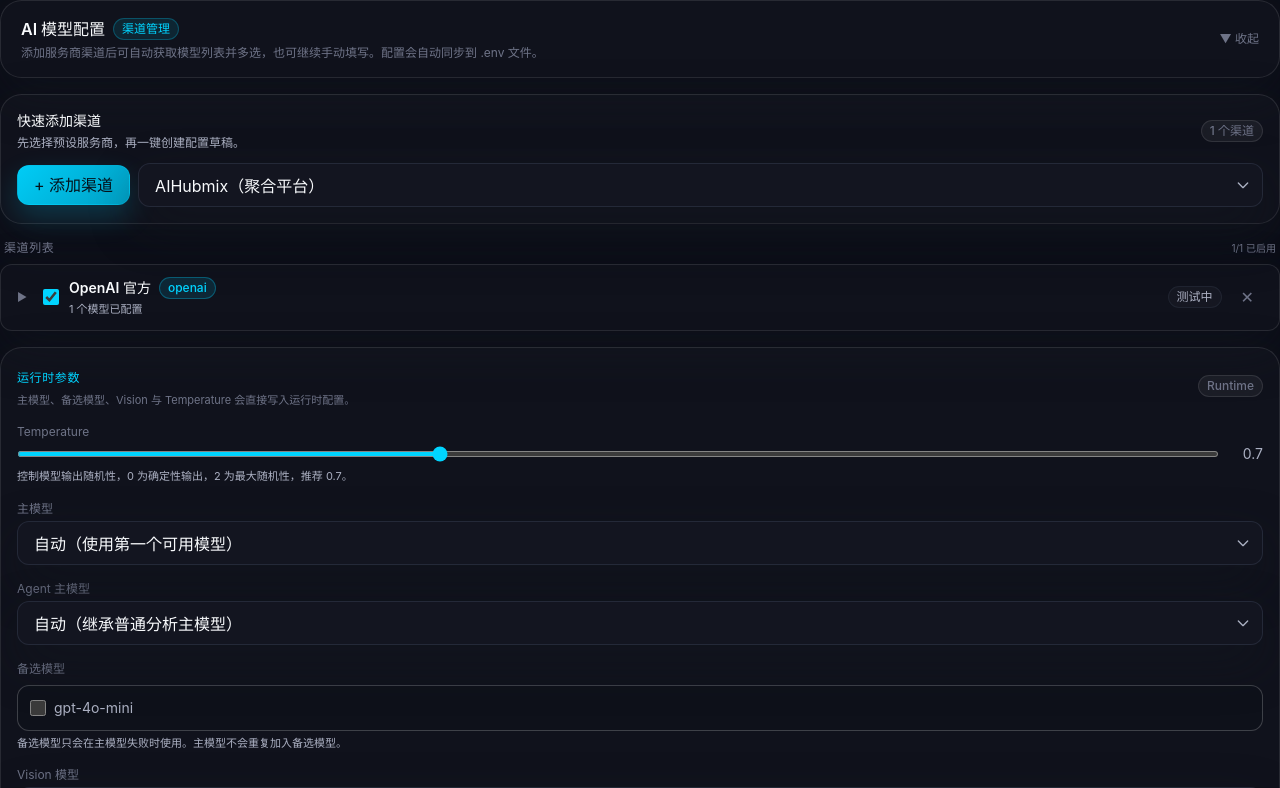
it: LLMChannelEditor › shows focused quota exceeded troubleshooting hints
This screenshot has width=1280, height=788.
Click the button "▶ OpenAI 官方 openai 1 个模型已配置 测试中 ✕" at (110, 288), box [1, 265, 1279, 330]
(page scrolled)
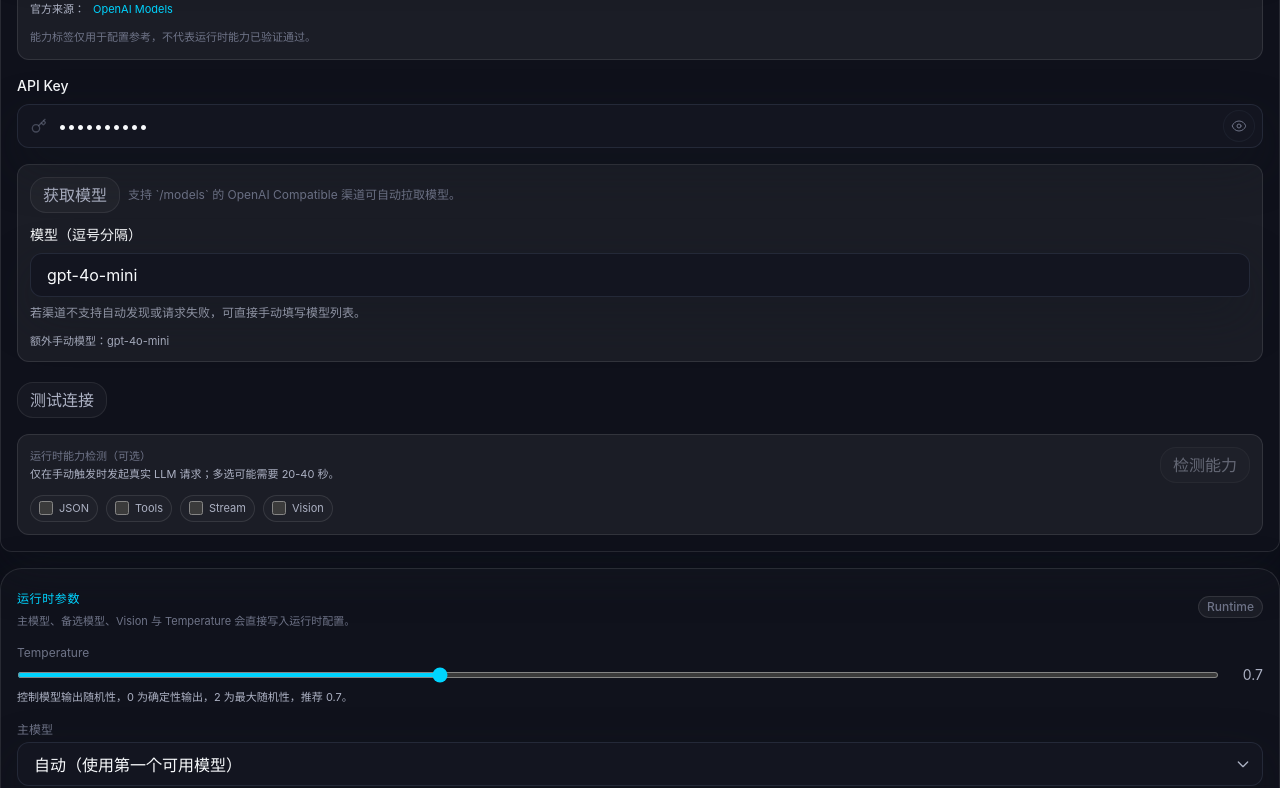
Click the button "测试连接" at (62, 400), box [17, 382, 107, 418]
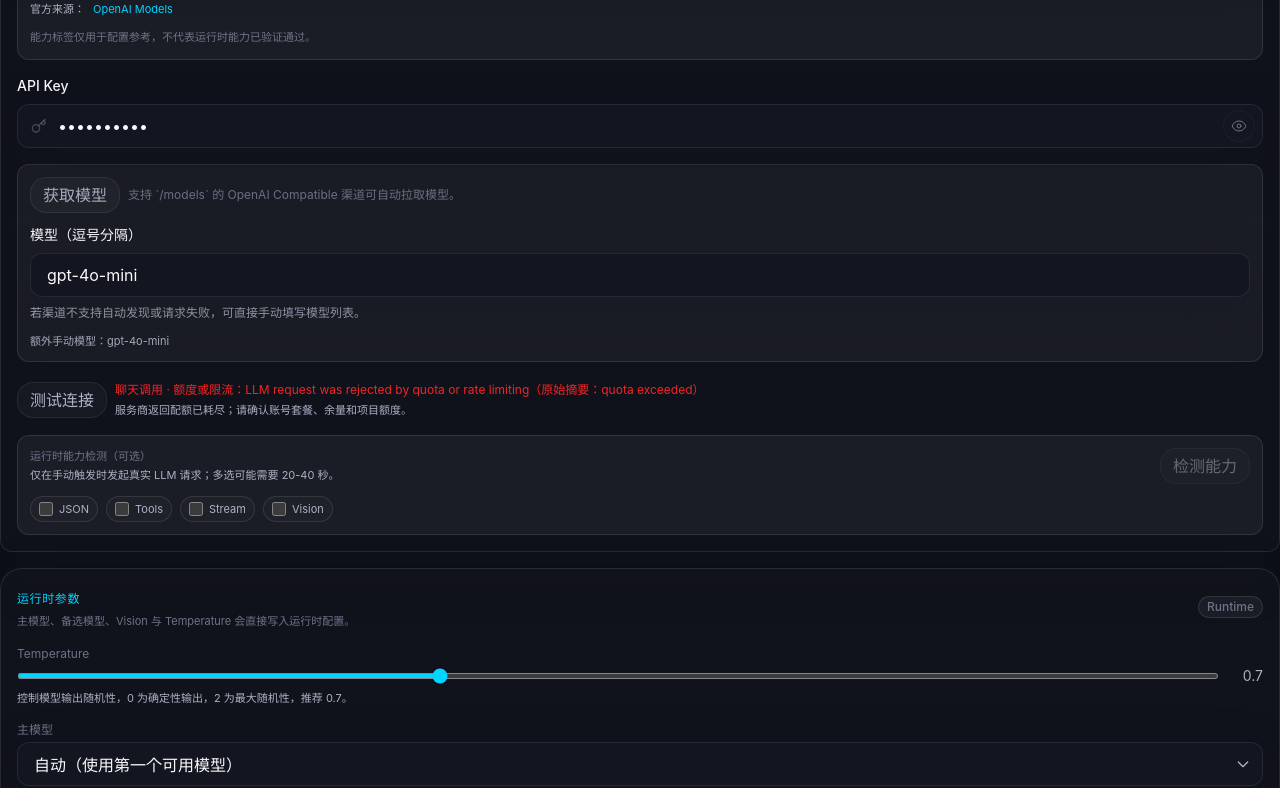
Expected: the text "服务商返回配额已耗尽；请确认账号套餐、余量和项目额度。" is shown, [115, 403, 412, 417]
